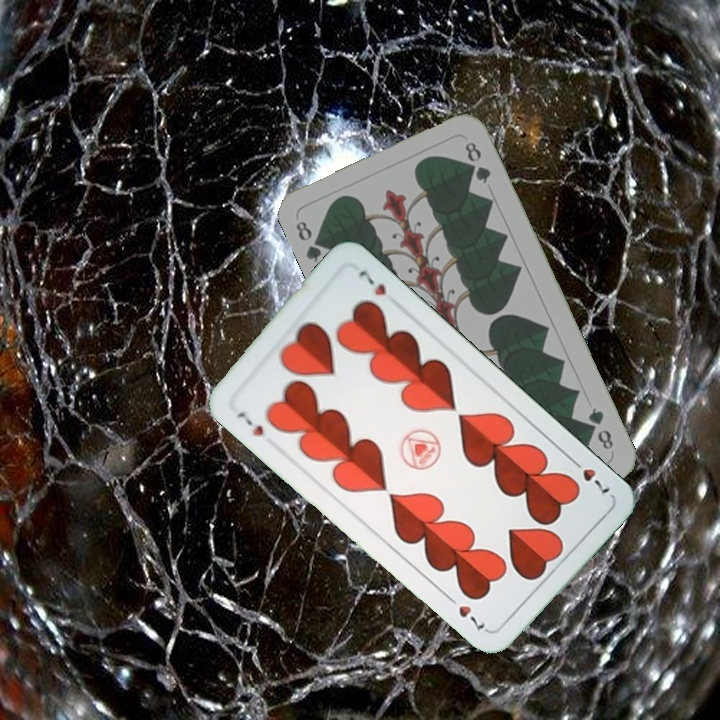G8: (291, 216, 329, 265), (584, 403, 616, 452)
H7: (566, 453, 613, 499), (233, 407, 267, 439)
